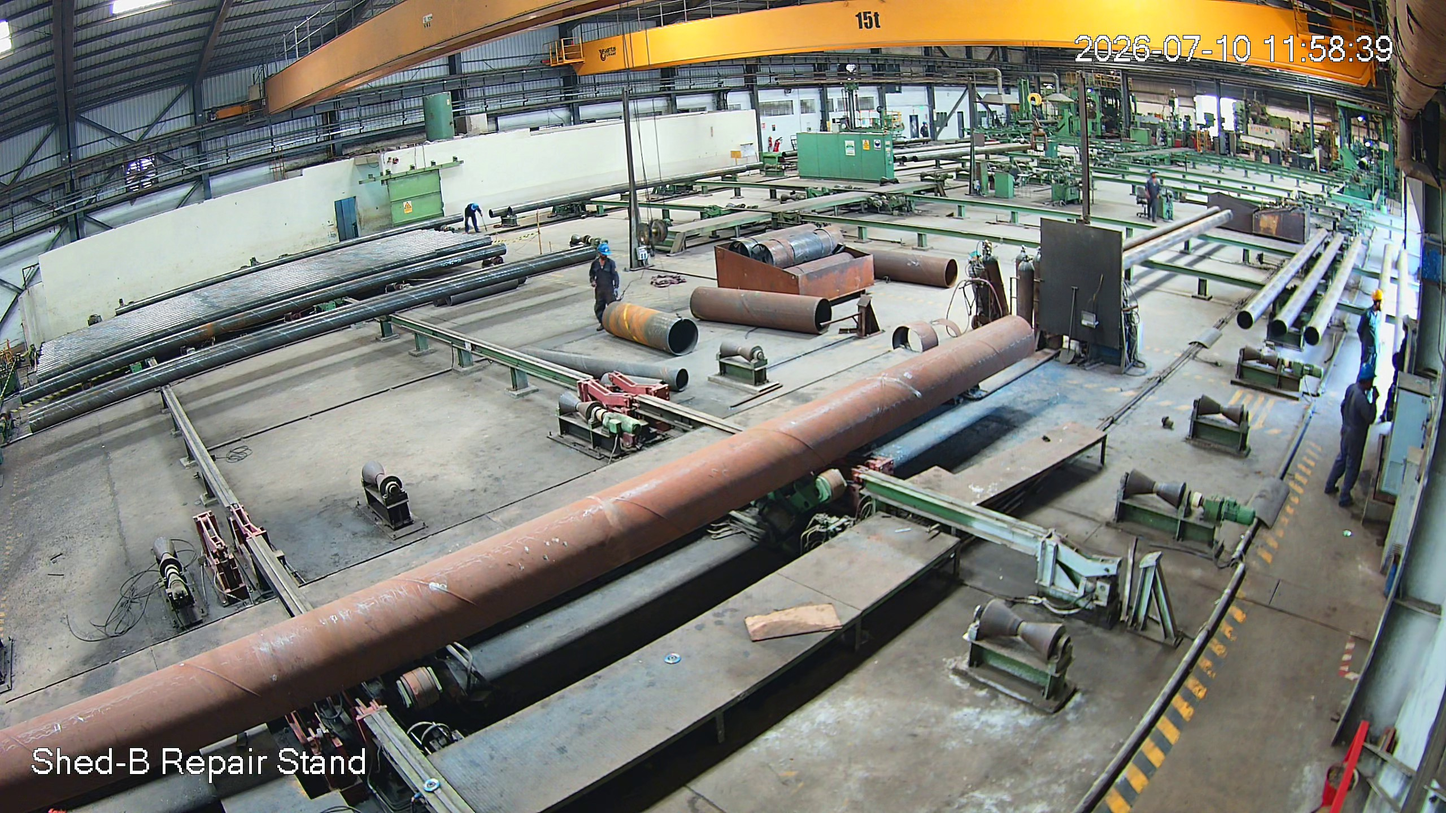Helmet: (1354, 361, 1380, 394), (1365, 285, 1387, 315), (595, 241, 612, 268), (471, 200, 482, 217)
Person: (1324, 364, 1383, 512), (1354, 287, 1390, 394), (591, 241, 615, 328), (461, 203, 486, 236)
